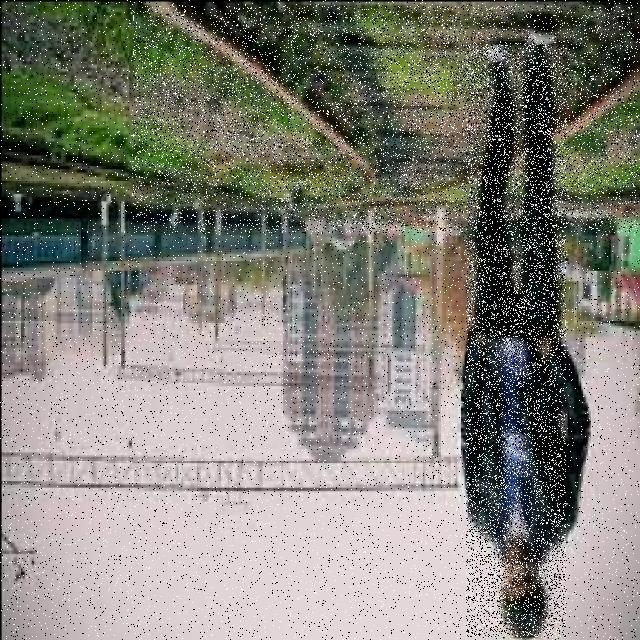danger: (466, 43, 566, 637)
rail: (132, 6, 638, 233)
